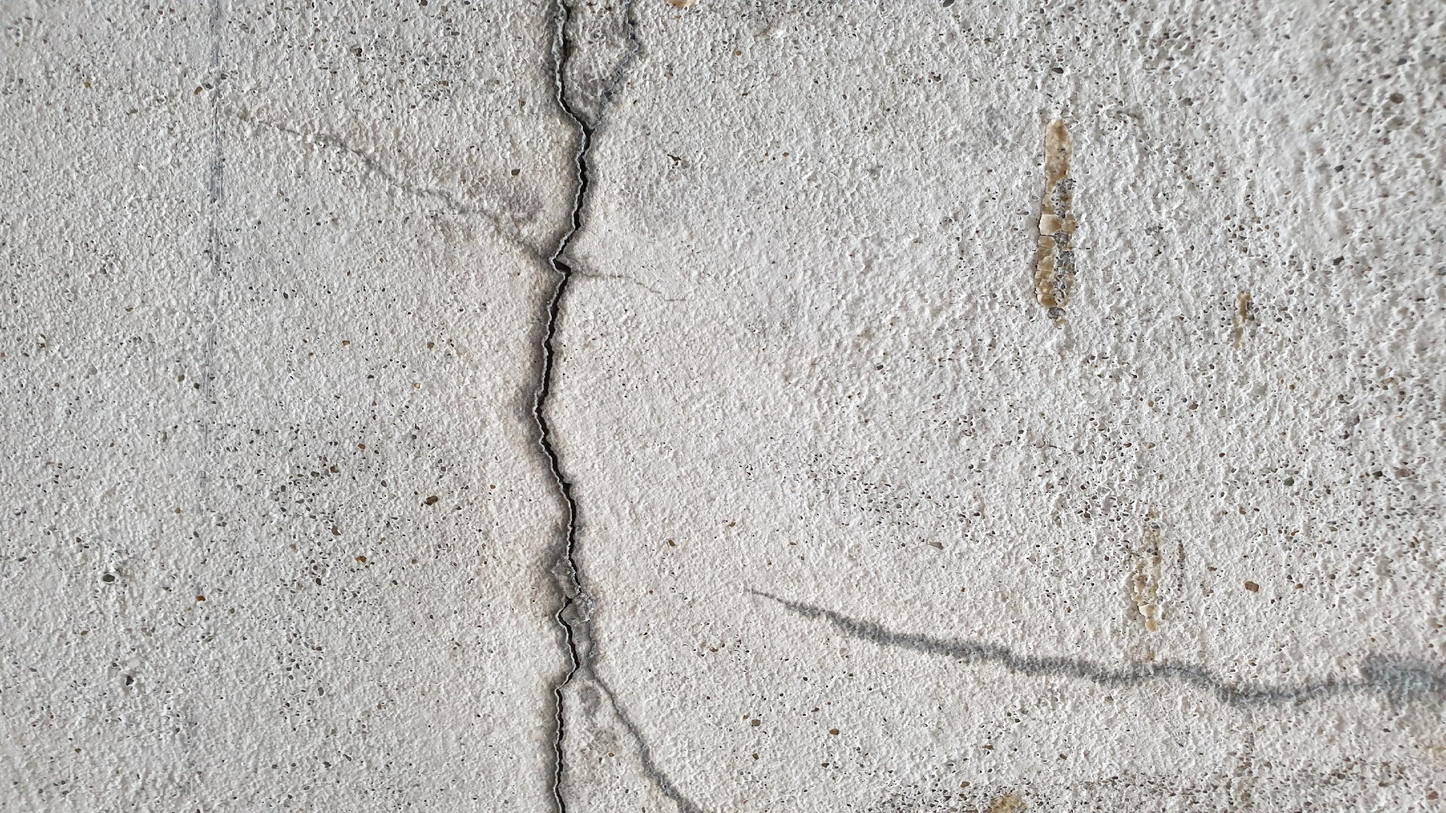crack: (530, 2, 593, 810)
